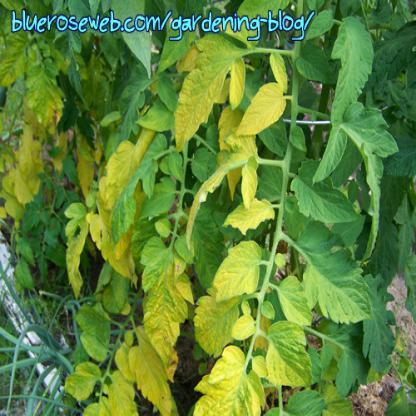Tomato leaf: (174, 33, 240, 143), (99, 124, 156, 250), (138, 242, 195, 366), (304, 256, 373, 340), (208, 230, 263, 320), (236, 72, 286, 148)
